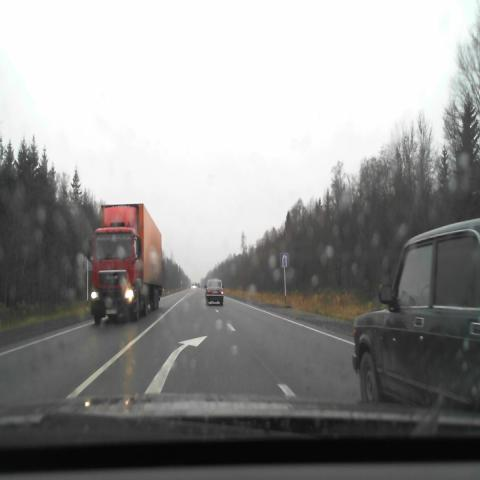5_15_5: (280, 252, 288, 267)
